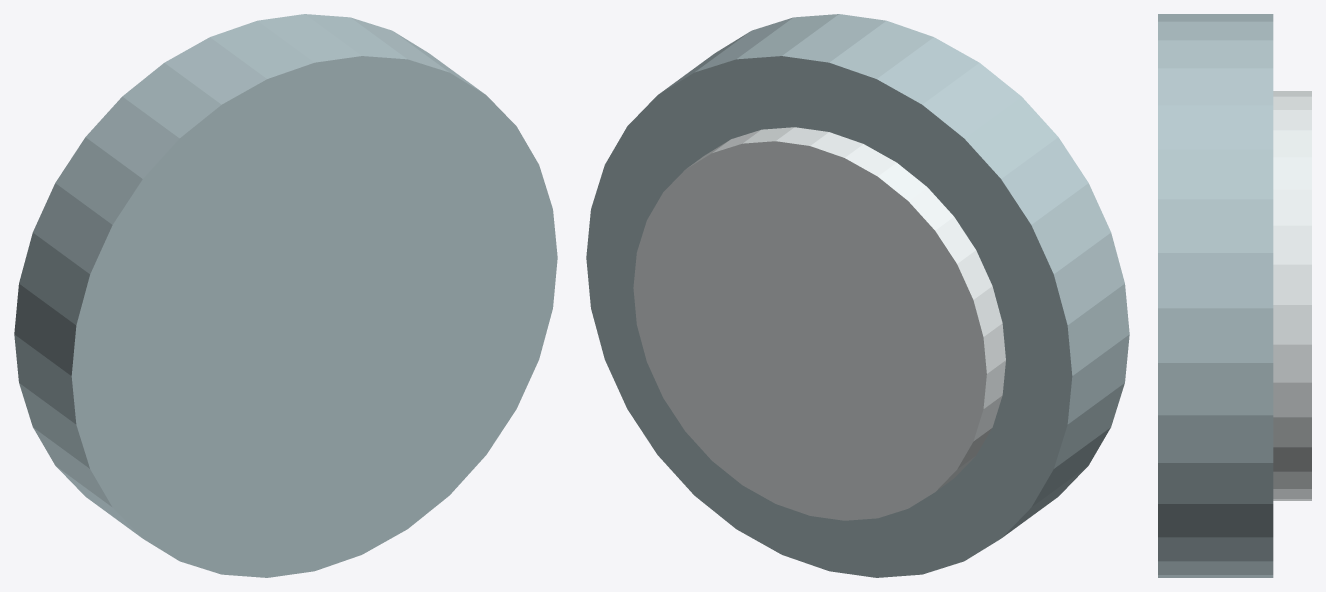
Rendered from recessed-light.glb.
The picture shows the model from 3 angles, left to right: view 1: azimuth 30°, elevation 25°; view 2: azimuth 150°, elevation 25°; view 3: azimuth 270°, elevation 25°; orthographic projection.
Visible parts, largest first — view 1: world; view 2: world; view 3: world.
Part boxes in pixels (bbox=[...]): world: bbox=[14, 14, 557, 577]; world: bbox=[586, 14, 1129, 577]; world: bbox=[1158, 14, 1311, 577].
Bounding box in the file's own units: 0.44 × 0.44 × 0.12.
